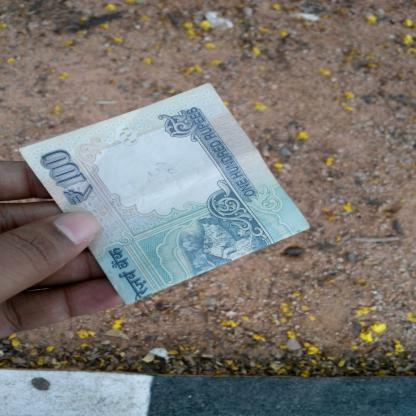Old100Back: (18, 82, 312, 304)
